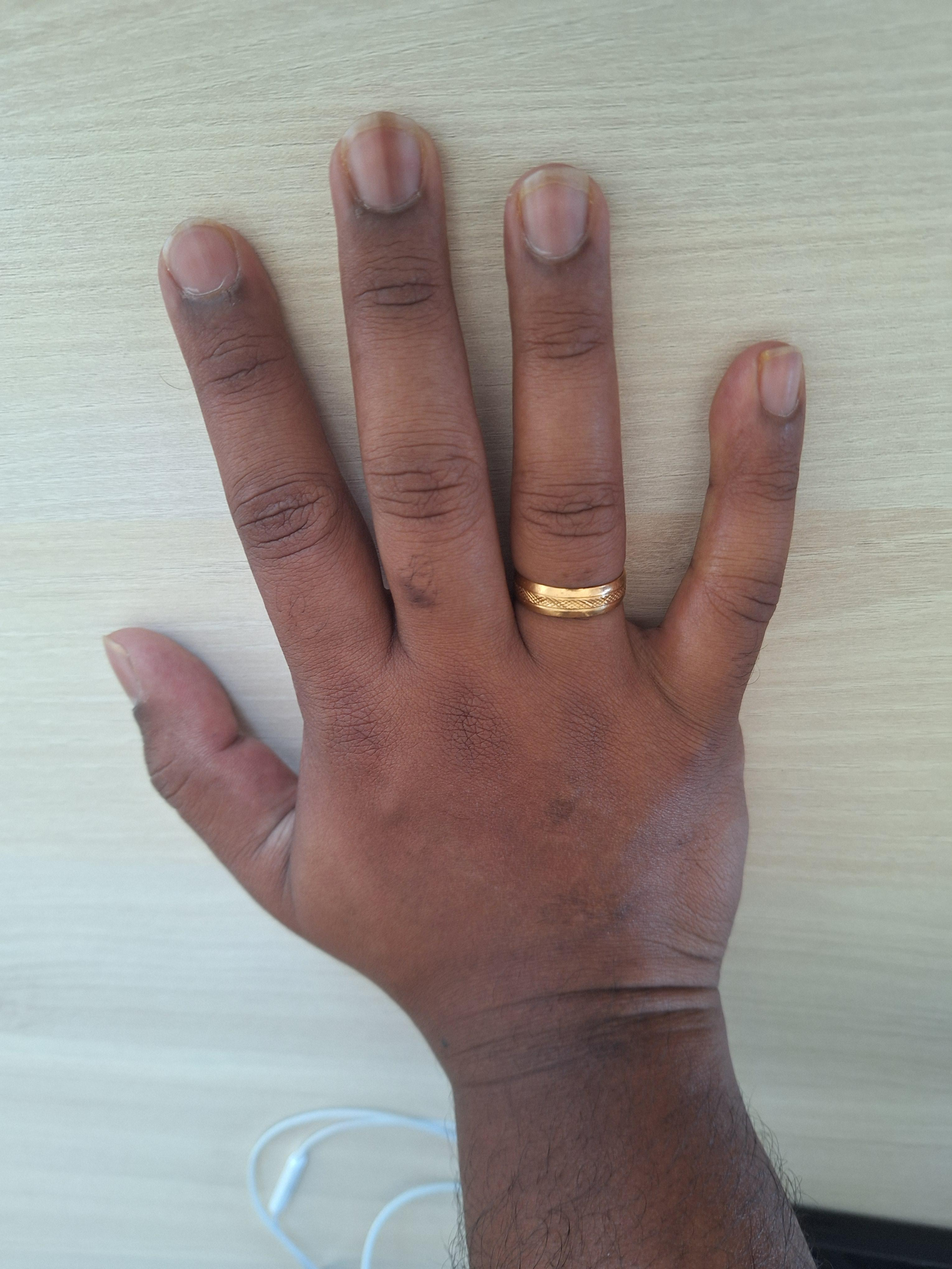Fingernail: (342, 112, 423, 210), (519, 167, 590, 259), (162, 218, 239, 298), (759, 347, 803, 416), (104, 635, 141, 710)
